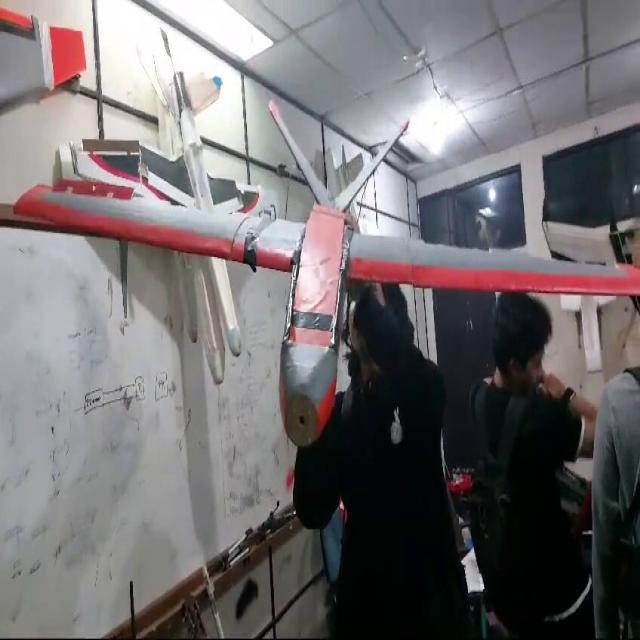plane: (7, 27, 639, 450)
